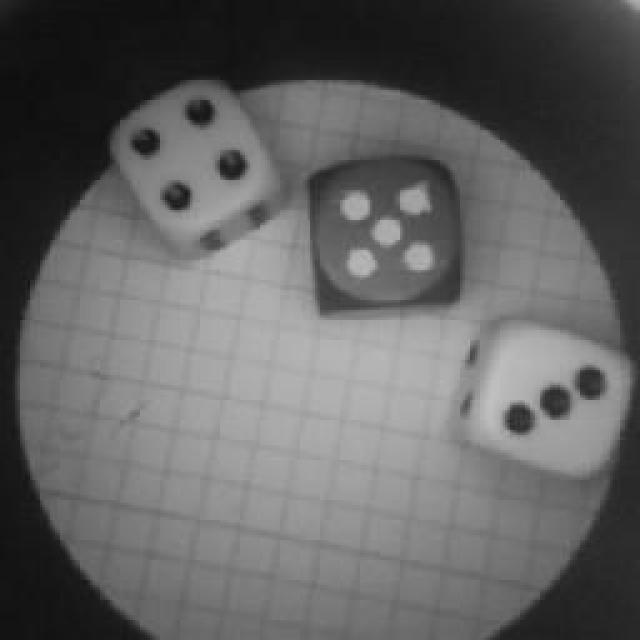dice_3: (450, 308, 638, 482)
dice_4: (105, 68, 287, 258)
dice_5: (297, 148, 475, 328)
